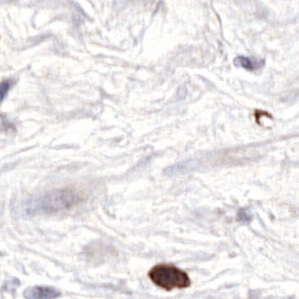Lymphocyte: (147, 262, 191, 292)
